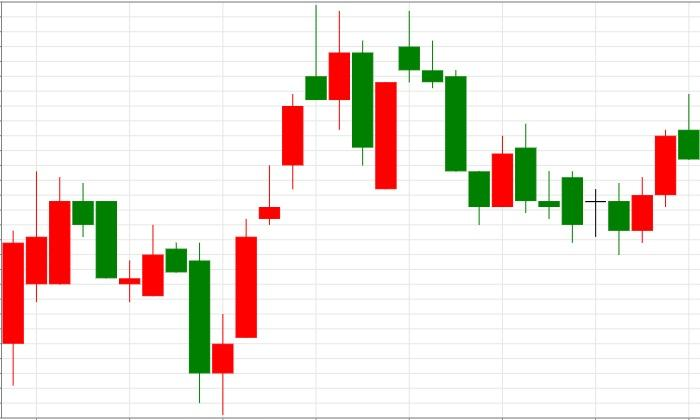shooting_star_fall: (211, 5, 328, 415)
three_white_soldiers_rise: (72, 165, 280, 415)
